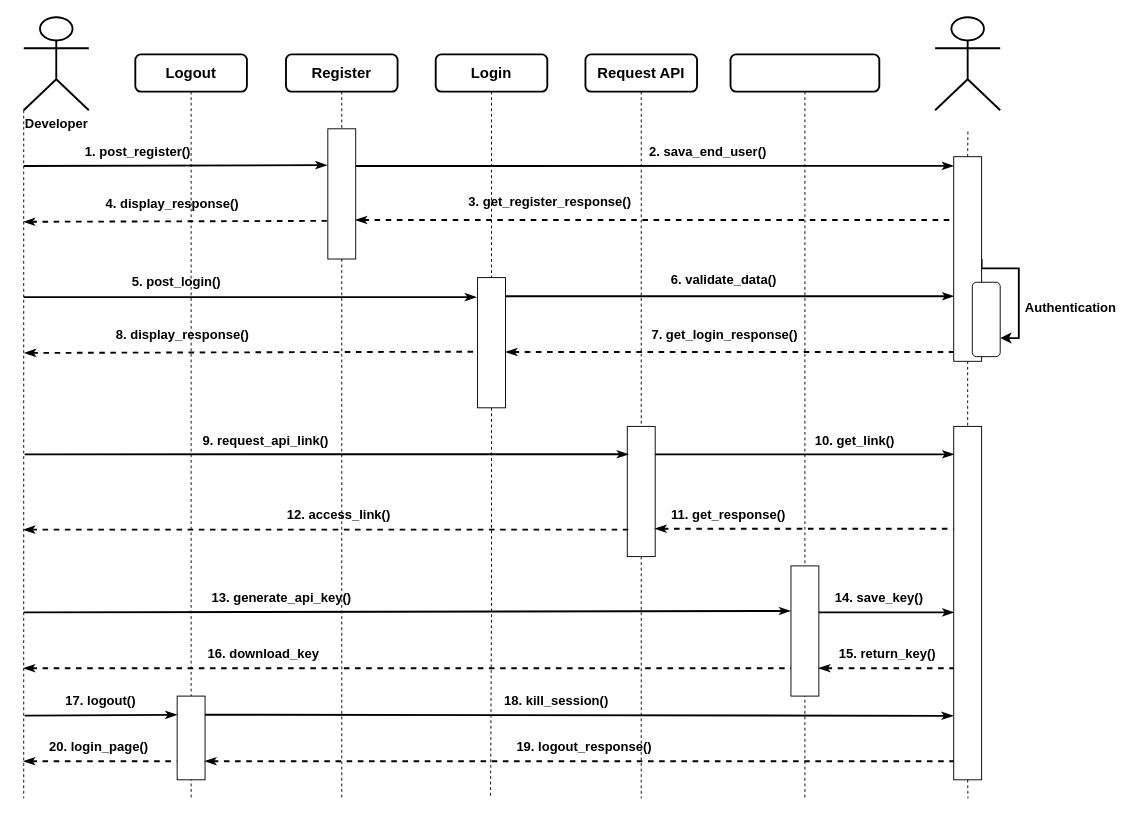
This 1137x816 diagram has some shape labels left out. Here are the shapes that lost their labels. From the top down, the centre of each, then its label:
At point 804,72: "Generate API Key".
At point 967,63: "Database".
